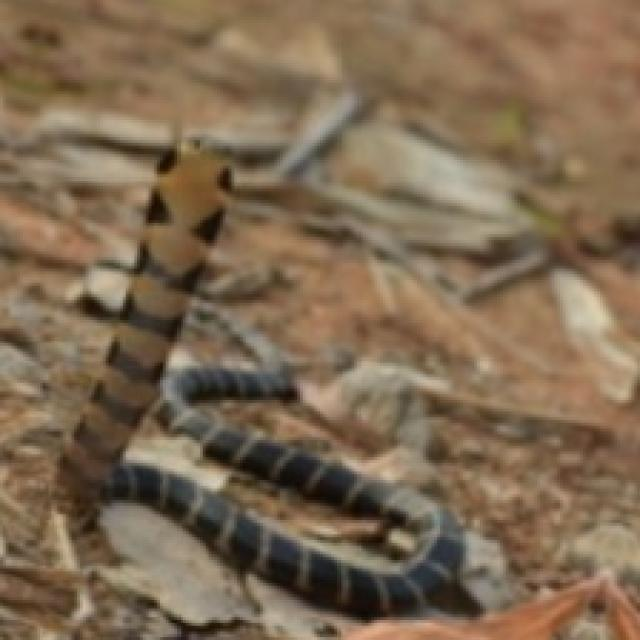king cobra: (66, 146, 511, 614)
